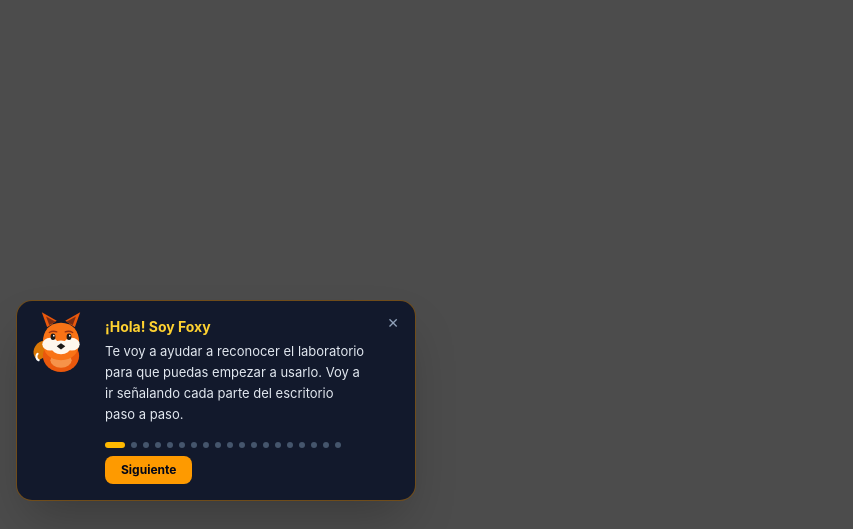
it: FoxyTour › avanza al siguiente paso con el botón Siguiente
What coordinates should you click on to do the following:
click the button "Siguiente"
I would click on:
 (149, 470)
Its box is [105, 456, 192, 484].
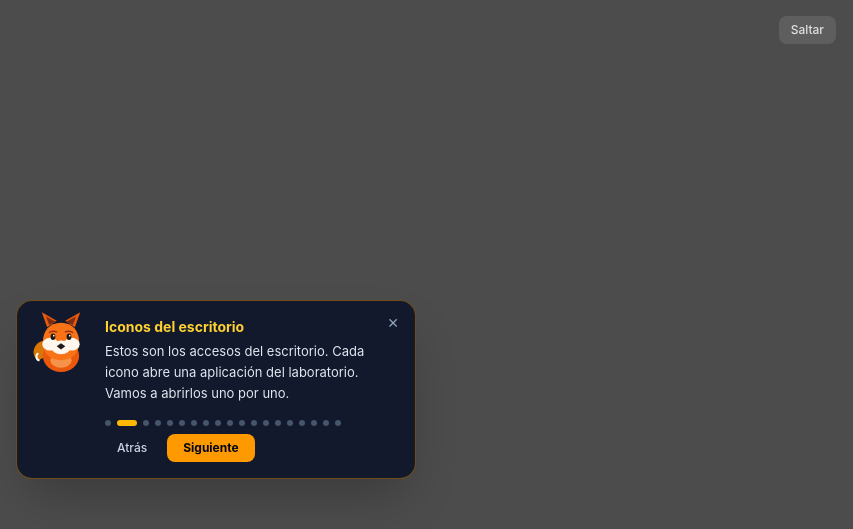
Expected: the text "Iconos del escritorio" is shown, [105, 318, 244, 335]
